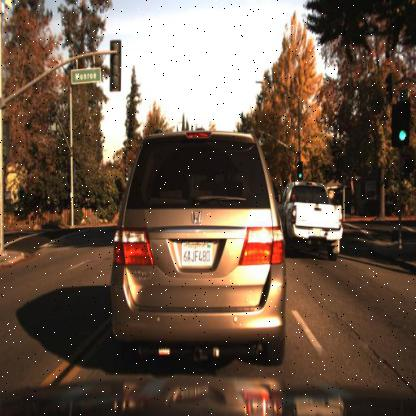car: (106, 110, 291, 374), (279, 178, 343, 262)
trafficLight-Green: (392, 96, 411, 148), (296, 157, 306, 182)
trafficLight-GreenLeft: (123, 164, 131, 187)
